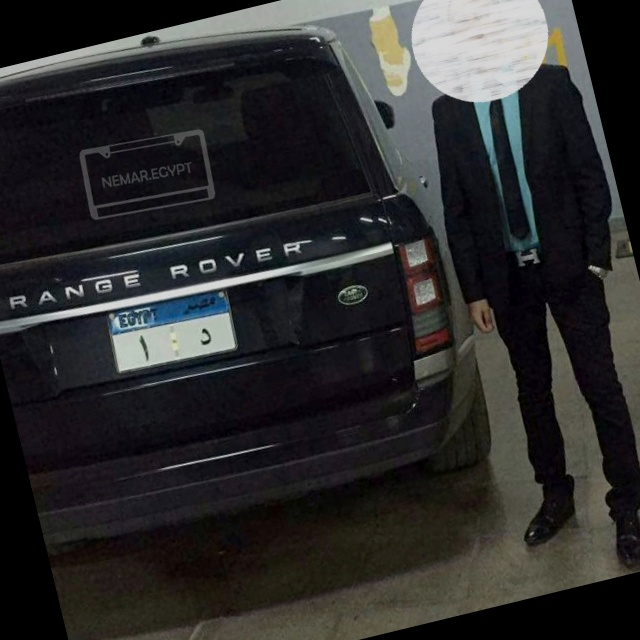License Plate: (98, 280, 245, 387)
